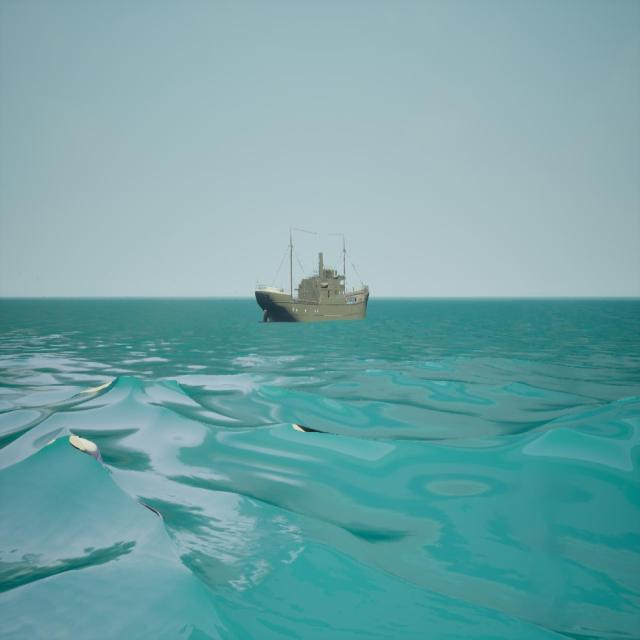fishing ship: (255, 231, 370, 324)
